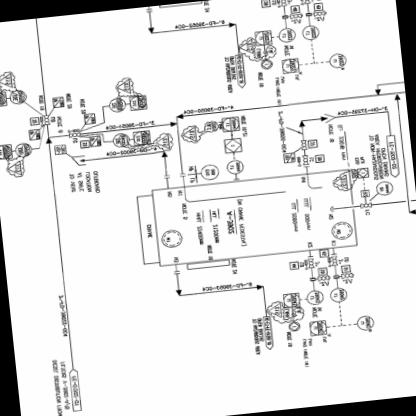LMI: (200, 162, 220, 180), (328, 50, 348, 68), (356, 312, 376, 330), (305, 288, 324, 306), (375, 178, 394, 196), (300, 23, 320, 40), (328, 286, 348, 302), (9, 87, 27, 104), (111, 130, 130, 146), (13, 140, 32, 156), (277, 26, 296, 42), (108, 96, 126, 112), (225, 158, 244, 173)
TAG: (308, 318, 327, 336), (128, 93, 147, 110), (280, 57, 300, 72), (132, 128, 150, 144), (254, 29, 272, 45), (282, 292, 300, 308), (221, 115, 239, 130), (0, 142, 13, 159), (0, 90, 8, 108)
